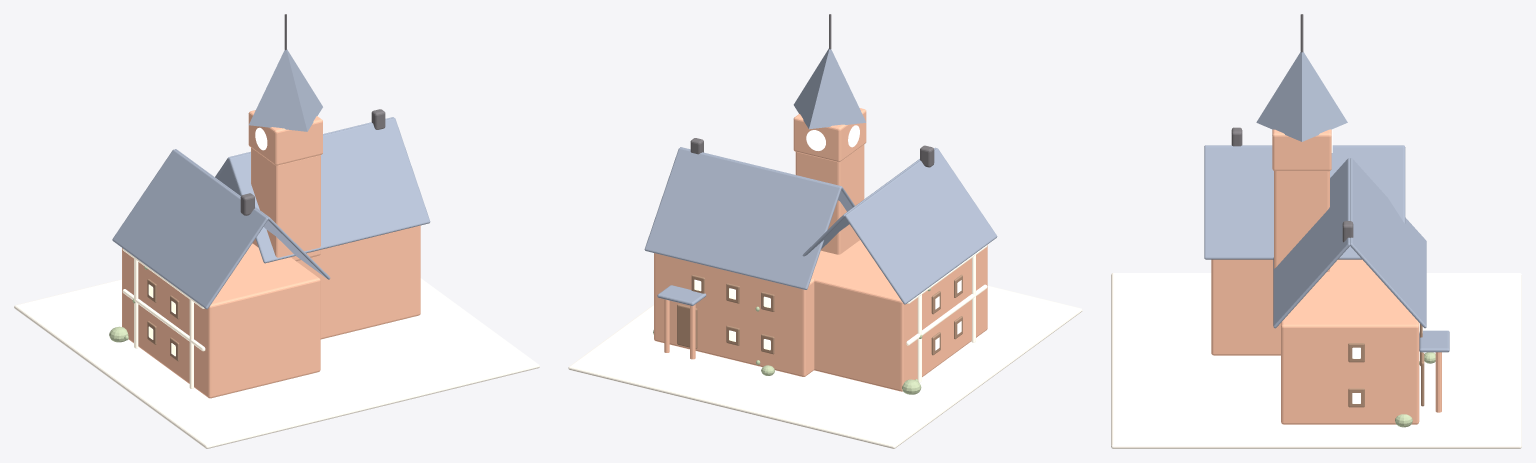
Rendered from town_hall.glb.
3 views of the same model, side by side, from view 1: azimuth 30°, elevation 25°; view 2: azimuth 150°, elevation 25°; view 3: azimuth 270°, elevation 25° (orthographic). The views are drawn at different scales.
Visible parts, largest first — view 1: Plaza, LeftWing, RoofL, RoofN, RightWing, Tower, TowerRoof, ClockLoft, RoofR, RoofS; view 2: Plaza, RoofS, LeftWing, RoofL, RightWing, TowerRoof, Tower, ClockLoft, Door, RoofR, PorchRoof; view 3: Plaza, RightWing, RoofR, RoofS, LeftWing, RoofN, TowerRoof, Tower, ClockLoft, PorchRoof, PostR.
Boxes of the visible parts, <box> form: Plaza: <box>14,278,539,448</box>; LeftWing: <box>122,243,320,398</box>; RoofL: <box>112,149,268,309</box>; RoofN: <box>228,118,430,263</box>; RightWing: <box>296,225,420,339</box>; Tower: <box>251,148,320,261</box>; TowerRoof: <box>249,49,322,131</box>; ClockLoft: <box>248,110,322,165</box>; RoofR: <box>175,149,330,279</box>; RoofS: <box>215,117,393,195</box>; Plaza: <box>568,285,1082,448</box>; RoofS: <box>644,148,841,289</box>; LeftWing: <box>811,240,987,391</box>; RoofL: <box>844,148,997,304</box>; RightWing: <box>654,250,825,376</box>; TowerRoof: <box>793,48,866,129</box>; Tower: <box>795,144,864,254</box>; ClockLoft: <box>793,108,866,162</box>; Door: <box>677,304,697,348</box>; RoofR: <box>802,147,935,256</box>; PorchRoof: <box>657,285,706,305</box>; Plaza: <box>1111,273,1521,448</box>; RightWing: <box>1281,259,1419,424</box>; RoofR: <box>1204,146,1405,259</box>; RoofS: <box>1350,158,1426,328</box>; LeftWing: <box>1211,259,1280,355</box>; RoofN: <box>1273,158,1349,328</box>; TowerRoof: <box>1256,52,1347,141</box>; Tower: <box>1274,171,1329,271</box>; ClockLoft: <box>1272,129,1331,171</box>; PorchRoof: <box>1419,330,1449,352</box>; PostR: <box>1435,352,1441,412</box>.
Bounding box in the file's own units: 9.4 × 8.82 × 9.4.
